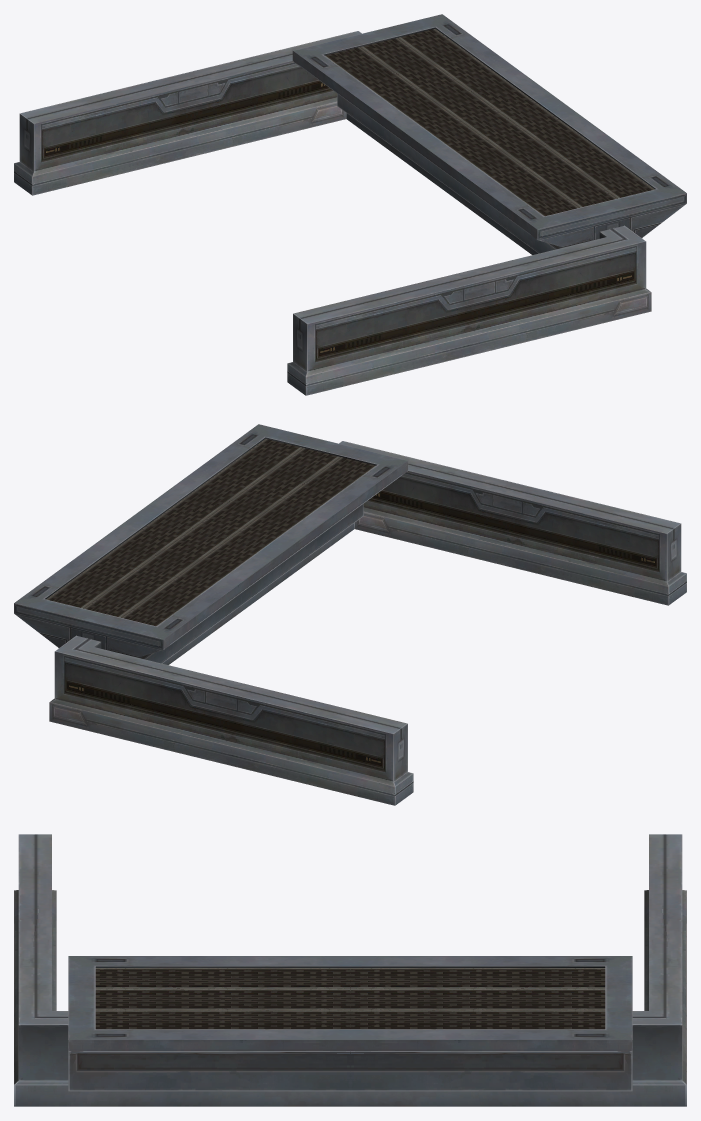
File: all_item_imp_scaffold.glb
3 renders of one model, top to bottom at view 1: azimuth 30°, elevation 25°; view 2: azimuth 150°, elevation 25°; view 3: azimuth 270°, elevation 25°, orthographic. The views are drawn at different scales.
Parts seen in each view (by area): view 1: all_item_imp_scaffold; view 2: all_item_imp_scaffold; view 3: all_item_imp_scaffold.
Part boxes in pixels (bbox=[...]): all_item_imp_scaffold: bbox=[14, 14, 686, 395]; all_item_imp_scaffold: bbox=[14, 424, 686, 805]; all_item_imp_scaffold: bbox=[14, 834, 686, 1106].
Size of the model in its own units: 1.62 by 0.332 by 2.03.
3 materials, 3 textured.
